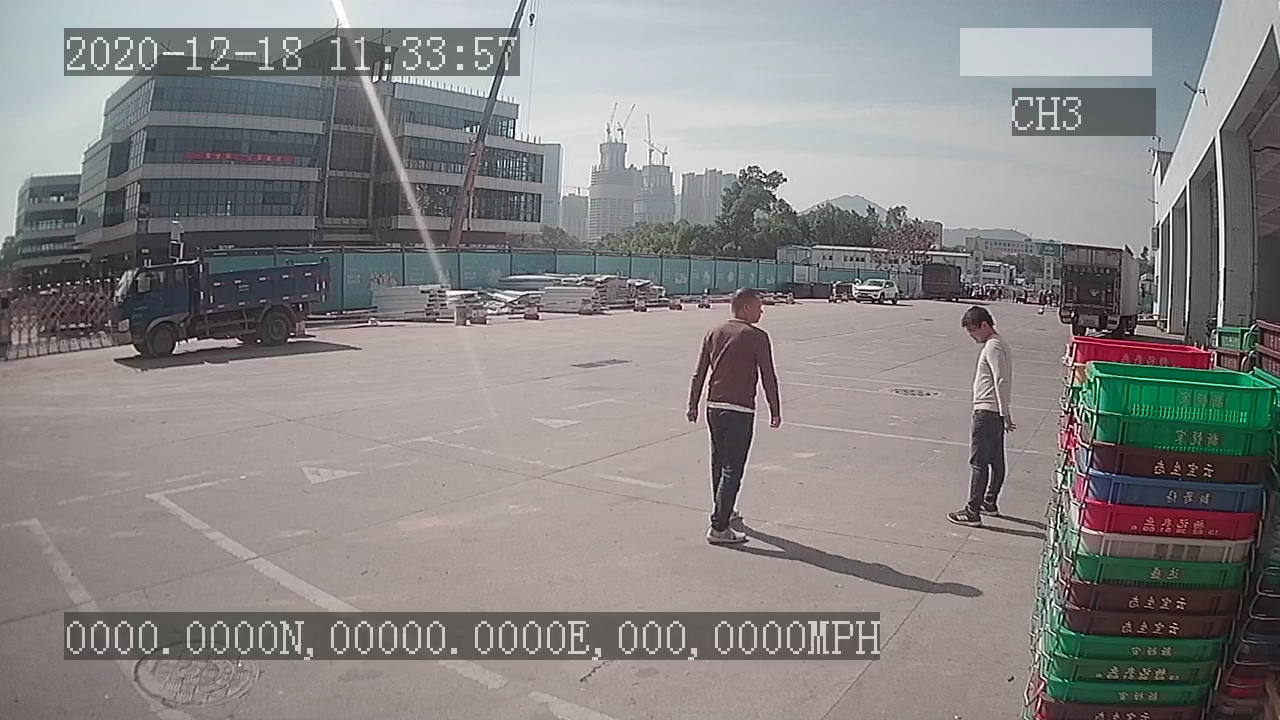person: (685, 282, 786, 546), (947, 304, 1018, 532)
